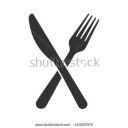fork: (40, 13, 101, 104)
